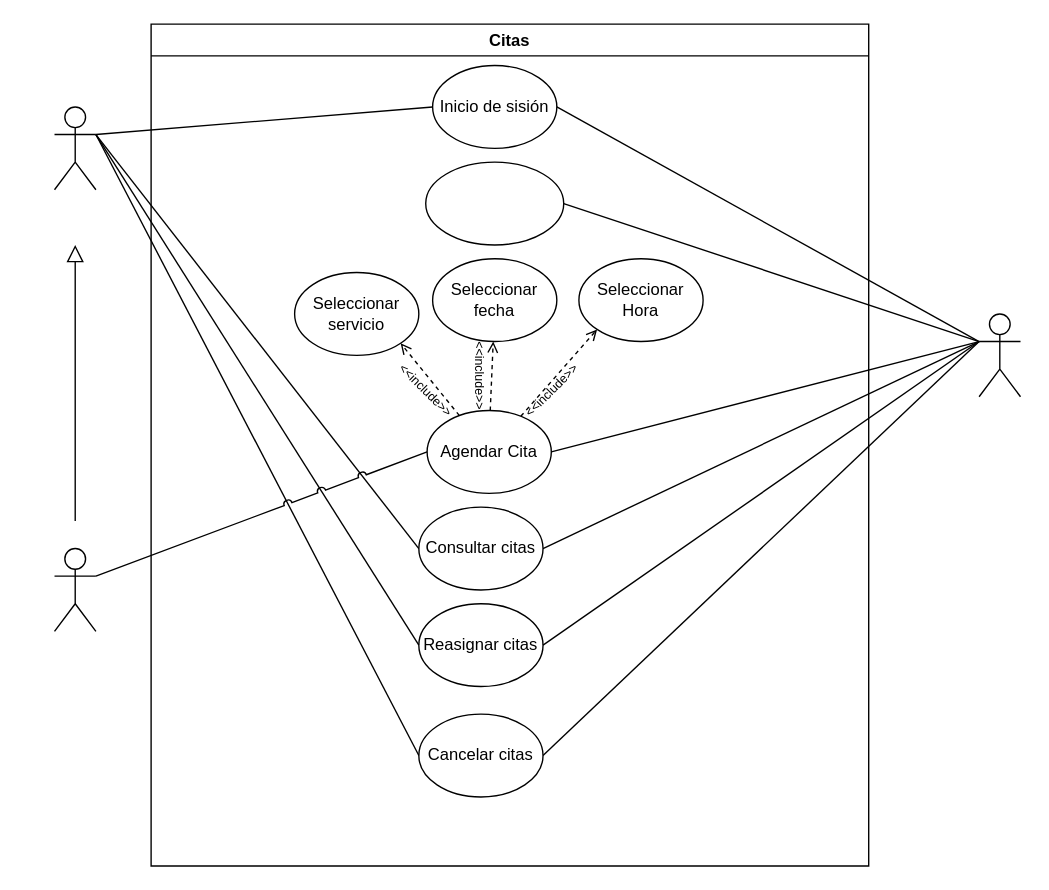
Image size: 1049x890. Some labels were removed from this diagram. Here are the shapes that lost their labels. From the top down, the centre of each, then its label:
At point (74, 148): "Administrador".
At point (494, 203): "Registro de Usuario".
At point (999, 355): "Cliente".
At point (74, 589): "Empleado".
